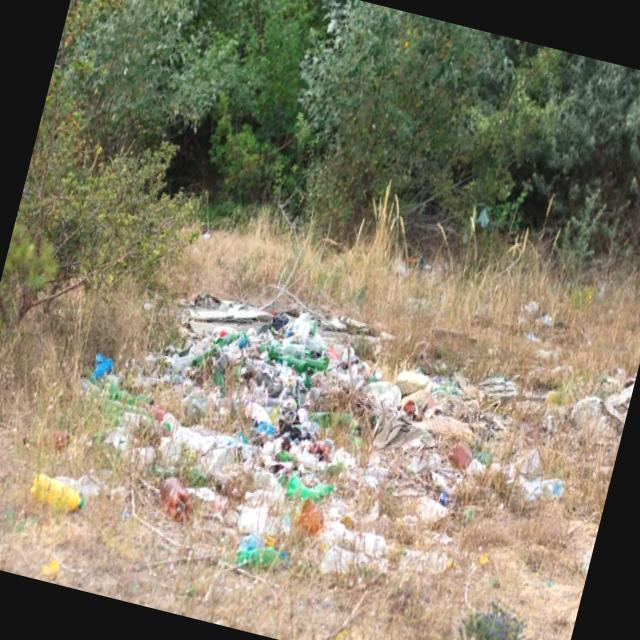garbage: (43, 204, 484, 622)
